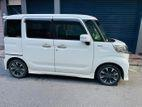car: (2, 11, 134, 90)
